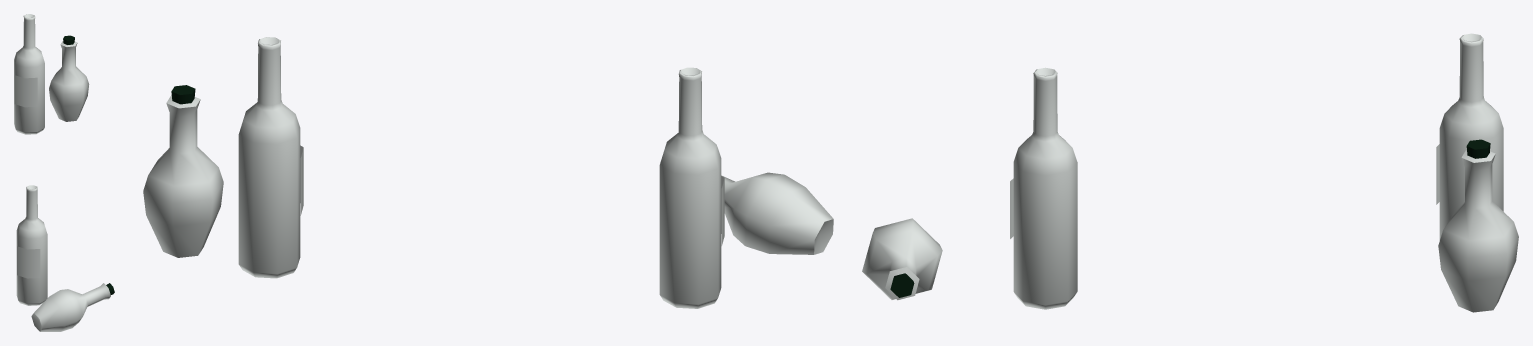
3 renders of one model, left to right at view 1: azimuth 30°, elevation 25°; view 2: azimuth 150°, elevation 25°; view 3: azimuth 270°, elevation 25°, orthographic. The views are drawn at different scales.
Parts seen in each view (by area): view 1: G:\FFXIV-MapTools\exports\f1f3\bg\ffxiv\fst_f1\fld\f1f3\bgpa (×3); view 2: G:\FFXIV-MapTools\exports\f1f3\bg\ffxiv\fst_f1\fld\f1f3\bgpa (×2); view 3: G:\FFXIV-MapTools\exports\f1f3\bg\ffxiv\fst_f1\fld\f1f3\bgpa (×2).
Boxes of the visible parts, box(x1,y1,x2,y2) form: G:\FFXIV-MapTools\exports\f1f3\bg\ffxiv\fst_f1\fld\f1f3\bgpa (×3): box(14, 14, 114, 331); G:\FFXIV-MapTools\exports\f1f3\bg\ffxiv\fst_f1\fld\f1f3\bgpa (×2): box(143, 37, 833, 308); G:\FFXIV-MapTools\exports\f1f3\bg\ffxiv\fst_f1\fld\f1f3\bgpa (×2): box(862, 33, 1518, 312).
Size of the model in its own units: 0.8462 by 0.7544 by 1.23.
